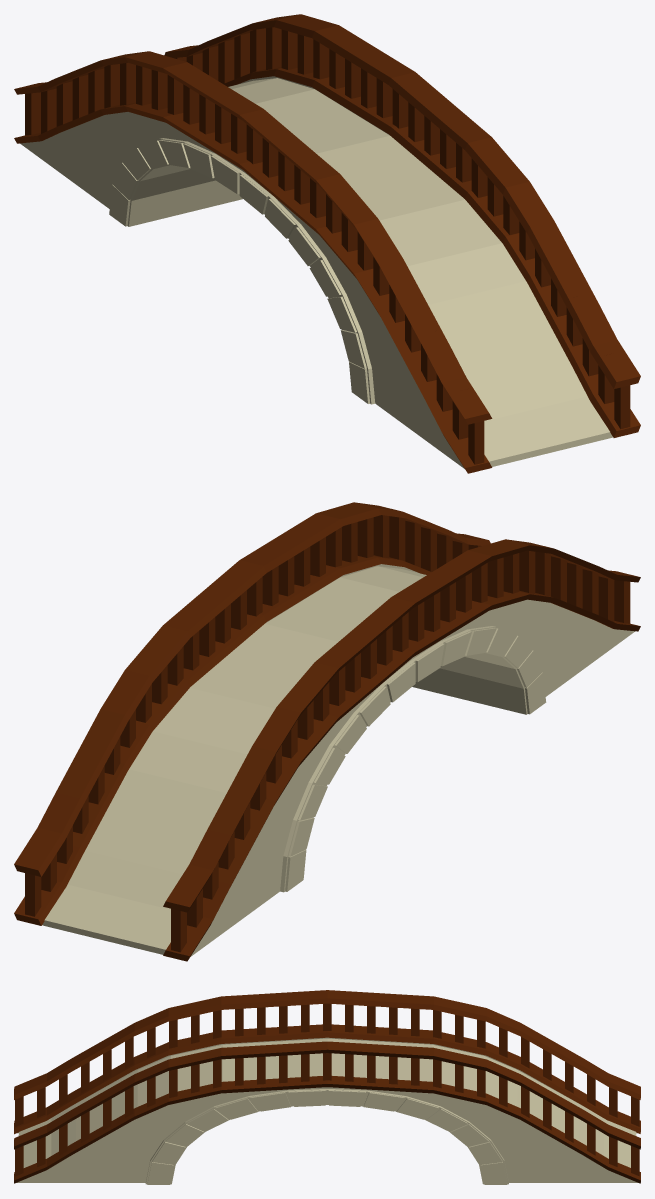
Rendered from Bridge_02_Alt.fbx.
The picture shows the model from 3 angles, top to bottom: view 1: azimuth 30°, elevation 25°; view 2: azimuth 150°, elevation 25°; view 3: azimuth 270°, elevation 25°; orthographic projection. The views are drawn at different scales.
Parts seen in each view (by area): view 1: Cube.017; view 2: Cube.017; view 3: Cube.017.
Boxes of the visible parts, x1=… form: Cube.017: x1=14, y1=14, x2=640, y2=473; Cube.017: x1=14, y1=502, x2=640, y2=961; Cube.017: x1=14, y1=990, x2=640, y2=1184.
Size of the model in its own units: 242 by 256 by 1063.
